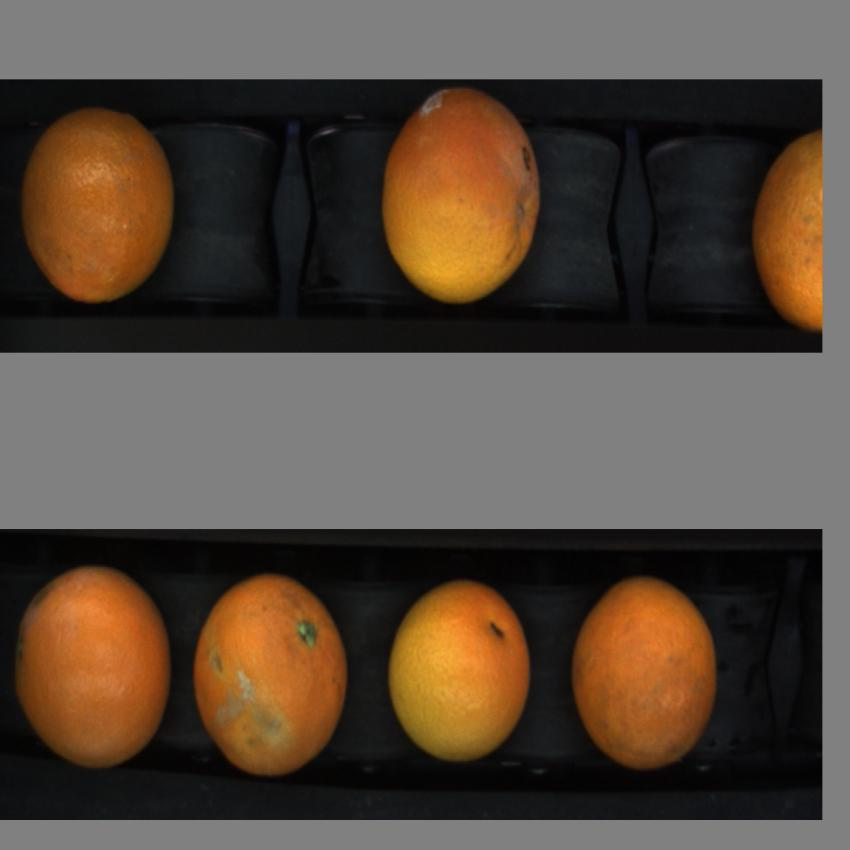Buen estado: (11, 561, 182, 786), (14, 97, 185, 315), (564, 568, 725, 787), (378, 571, 540, 776), (744, 119, 822, 352)
Mal estado: (374, 85, 554, 311), (186, 566, 357, 791)
